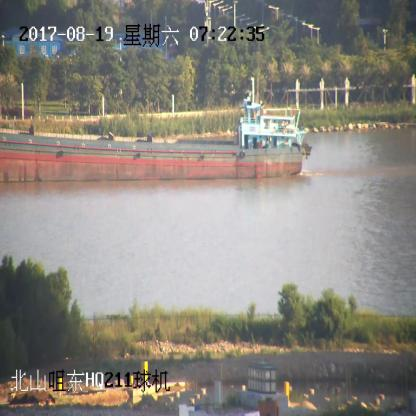Bulk Carrier: (0, 95, 309, 182)
